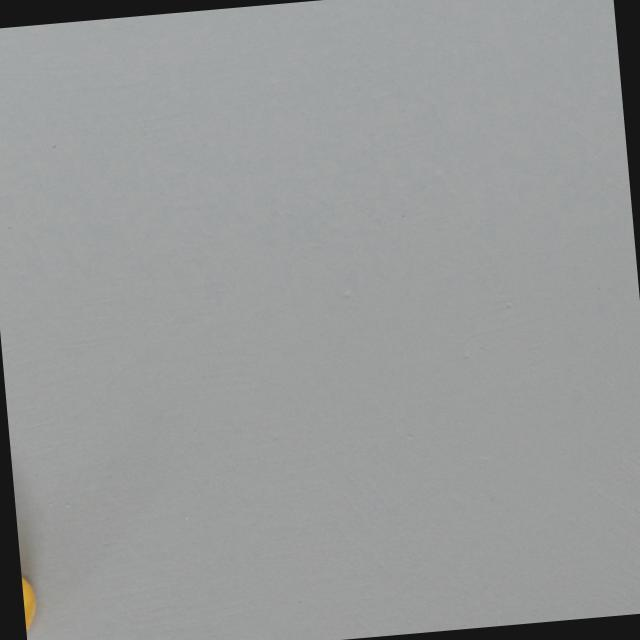no_desgerminado: (18, 543, 45, 640)
